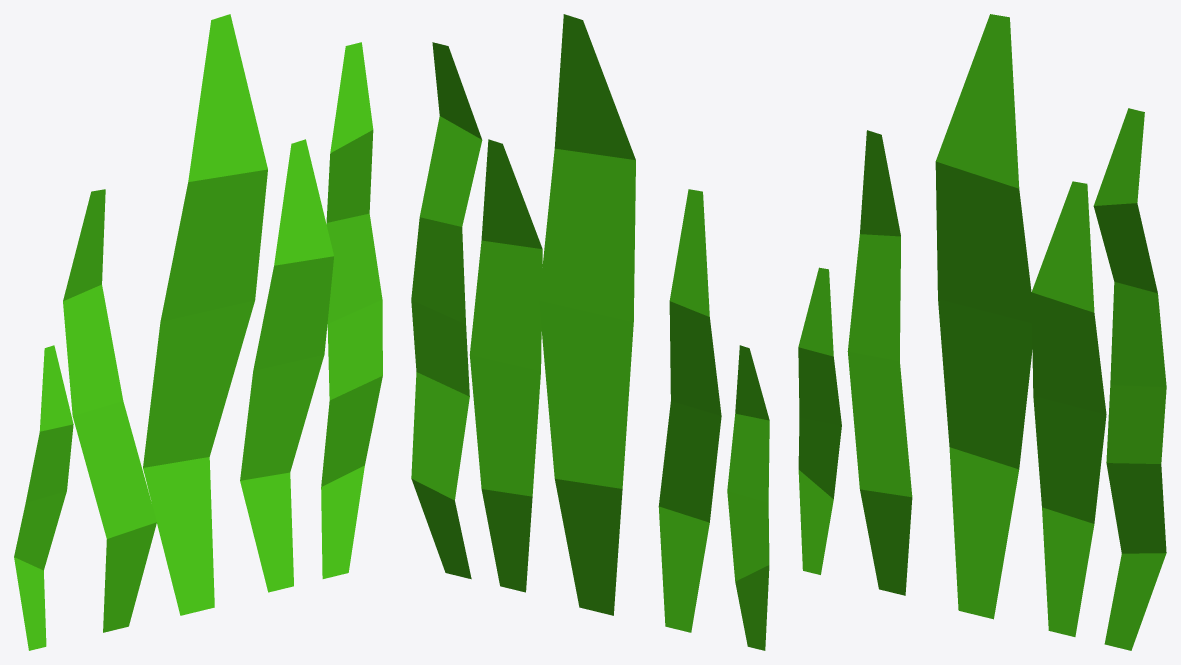
The model's file is grass.glb.
The picture shows the model from 3 angles, left to right: view 1: azimuth 30°, elevation 25°; view 2: azimuth 150°, elevation 25°; view 3: azimuth 330°, elevation 25°; orthographic projection. The views are drawn at different scales.
Visible parts, largest first — view 1: Plane; view 2: Plane; view 3: Plane.
Part boxes in pixels (x1,y1,x2,y2): Plane: [14, 14, 382, 650]; Plane: [411, 14, 769, 650]; Plane: [798, 14, 1166, 650].
Bounding box in the file's own units: 0.6164 × 0.9559 × 0.0879.
